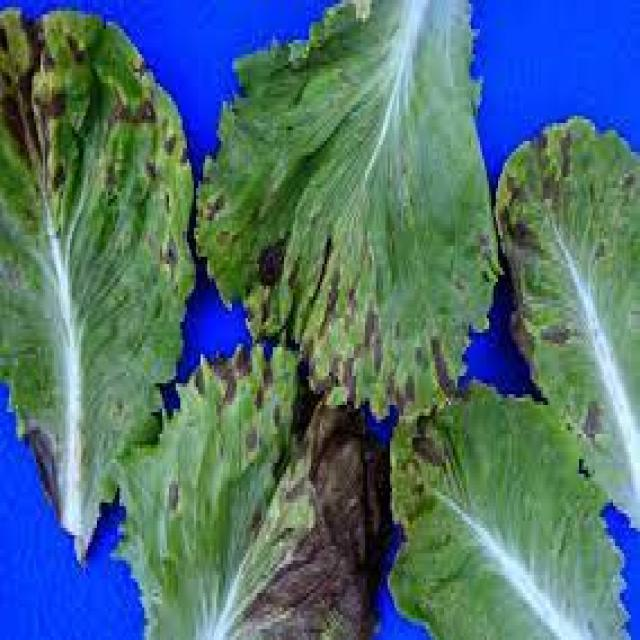Lettuce: (202, 0, 500, 420), (0, 10, 200, 560), (126, 338, 379, 640), (490, 115, 640, 540), (388, 383, 628, 640)
